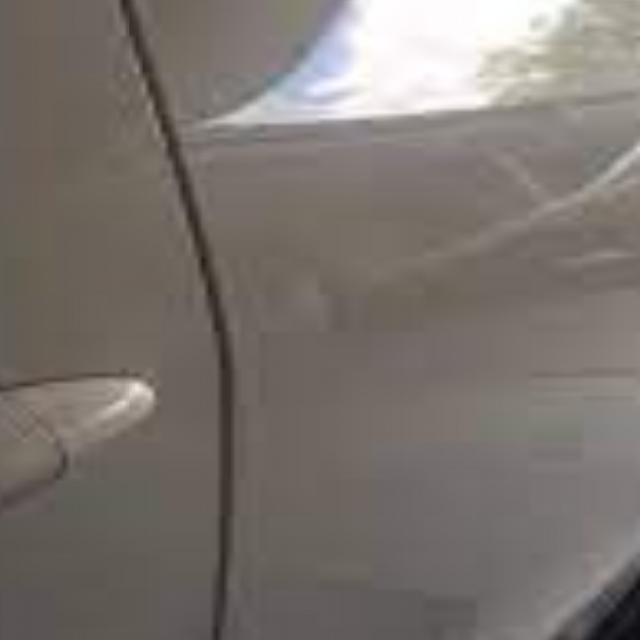dents: (276, 242, 361, 338)
